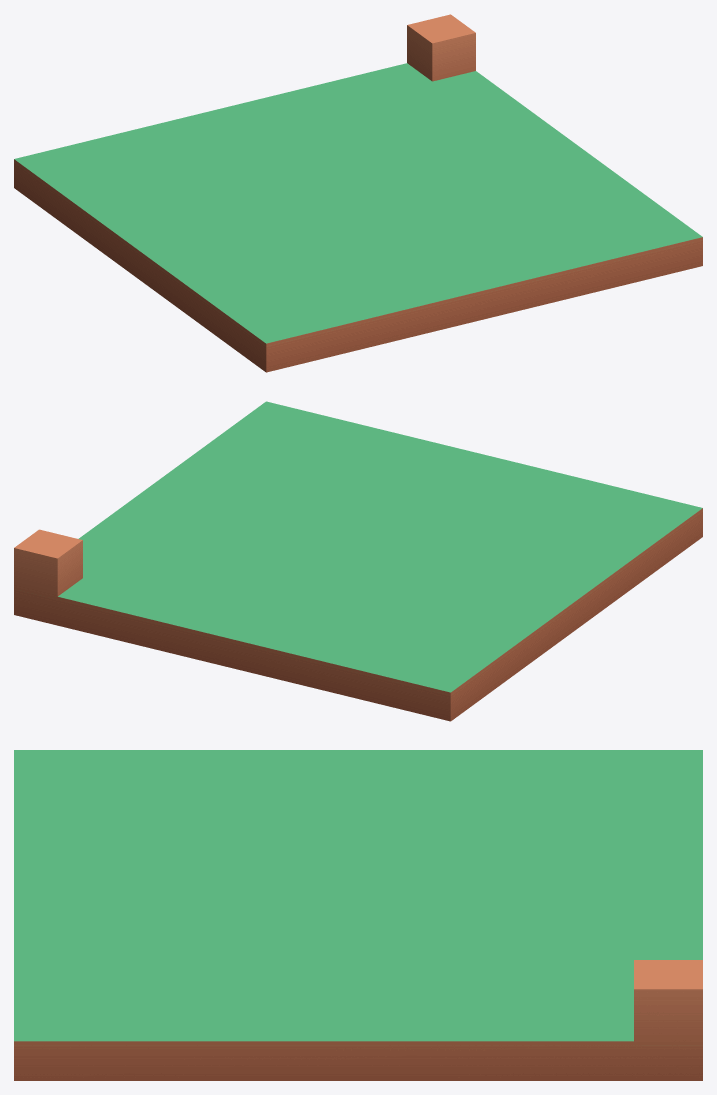
Rendered from inner-corner.glb.
The picture shows the model from 3 angles, top to bottom: view 1: azimuth 30°, elevation 25°; view 2: azimuth 150°, elevation 25°; view 3: azimuth 270°, elevation 25°; orthographic projection. The views are drawn at different scales.
Parts seen in each view (by area): view 1: inner-corner; view 2: inner-corner; view 3: inner-corner.
Boxes of the visible parts, <box> form: inner-corner: <box>14,14,702,372</box>; inner-corner: <box>14,401,702,721</box>; inner-corner: <box>14,750,702,1080</box>.
Bounding box in the file's own units: 0.9999 × 0.1467 × 0.9999.
Materials: 1 (1 with a texture image).
